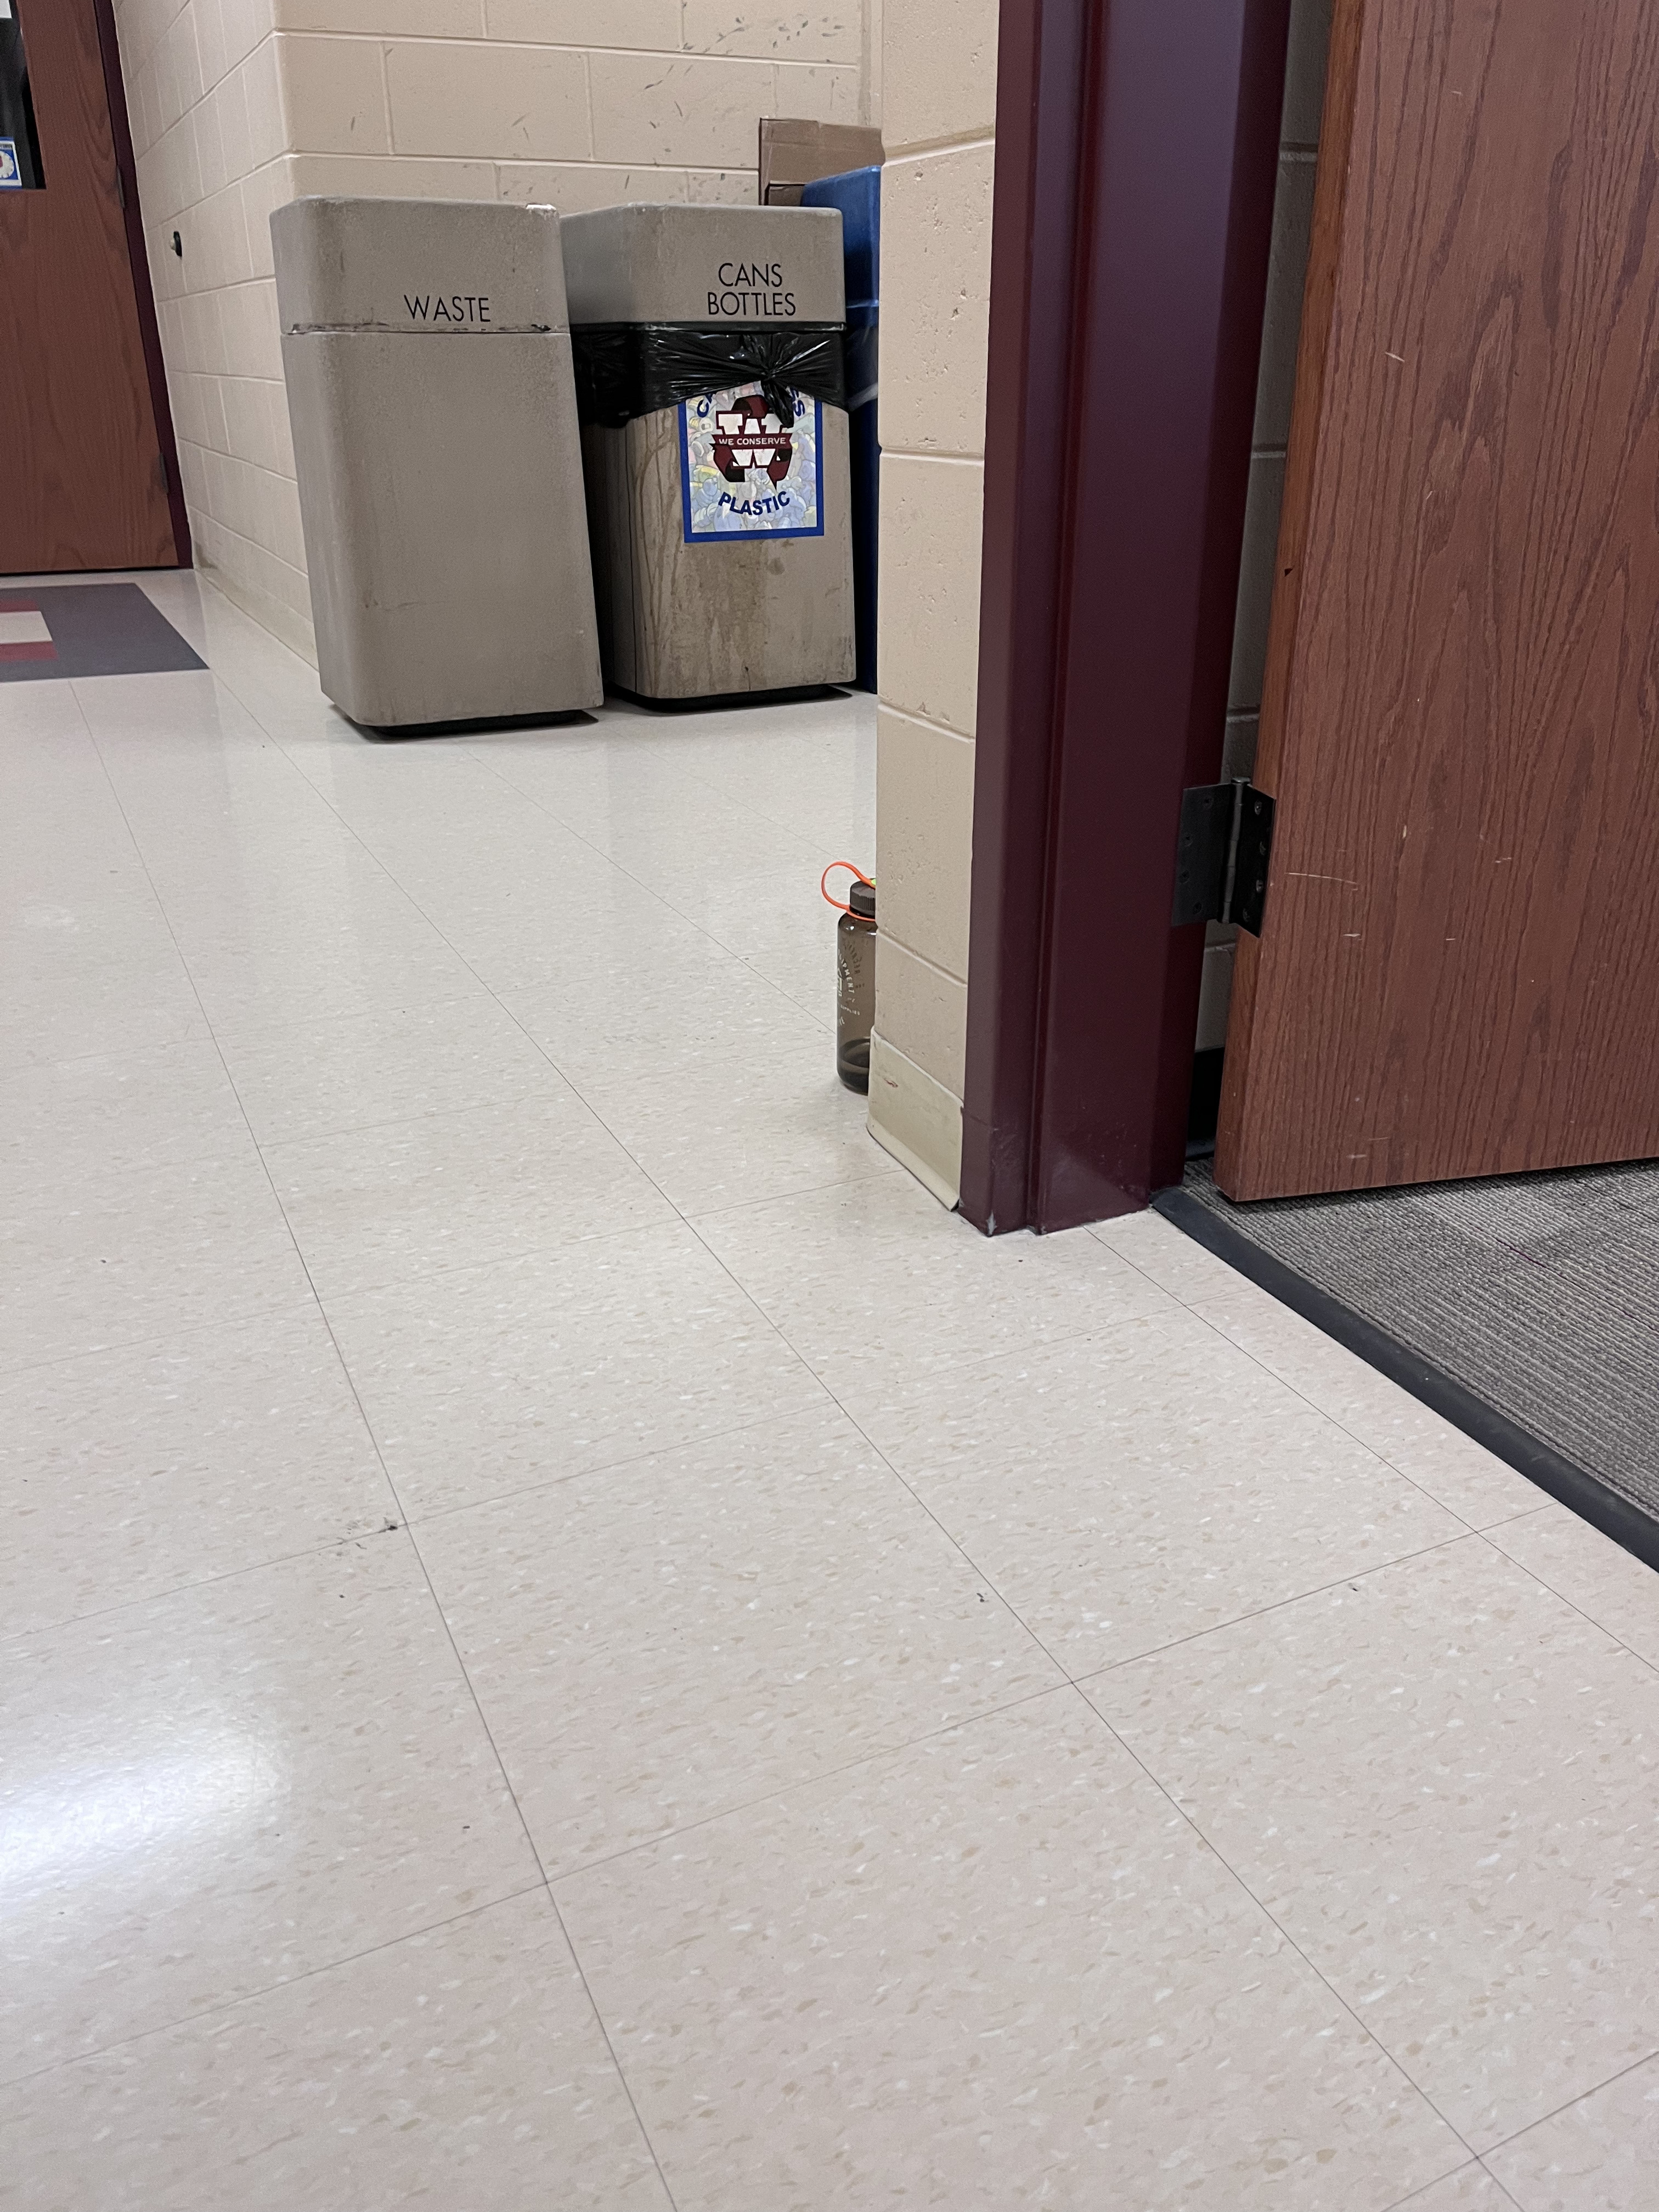bottle: (816, 850, 878, 1094)
